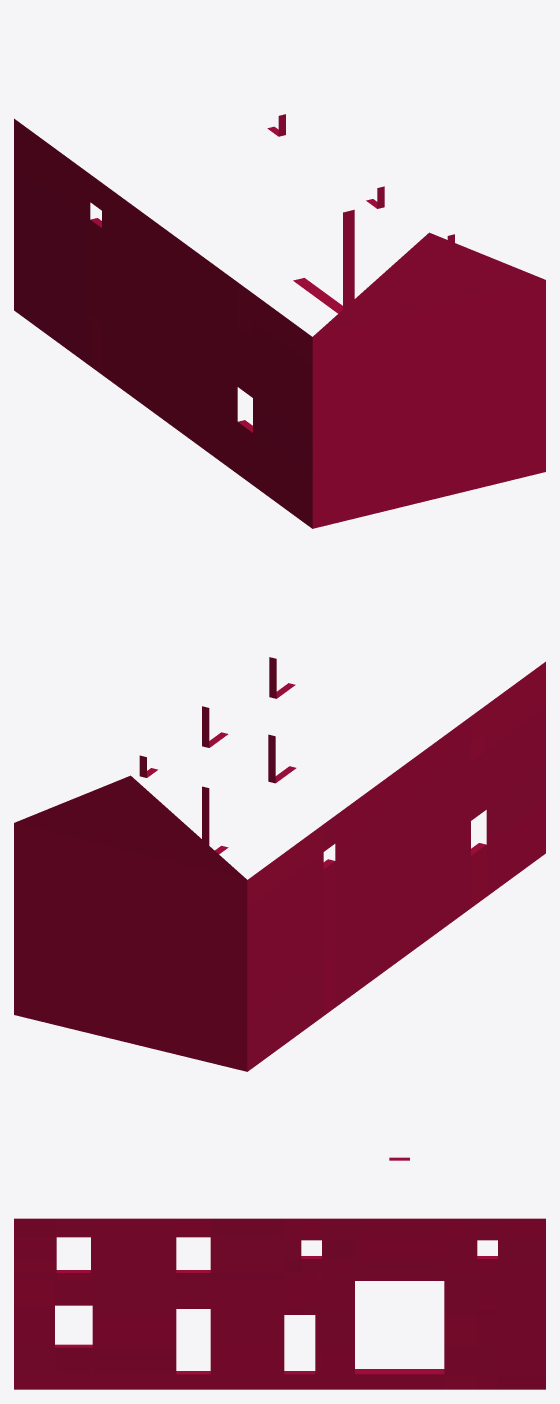
File: SM_Bld_176_Masonry.glb
3 views of the same model, one above another, from view 1: azimuth 30°, elevation 25°; view 2: azimuth 150°, elevation 25°; view 3: azimuth 270°, elevation 25° (orthographic). The views are drawn at different scales.
Parts seen in each view (by area): view 1: SM_Bld_176_Masonry; view 2: SM_Bld_176_Masonry; view 3: SM_Bld_176_Masonry.
Part boxes in pixels (bbox=[...]): SM_Bld_176_Masonry: bbox=[14, 114, 545, 528]; SM_Bld_176_Masonry: bbox=[14, 657, 545, 1071]; SM_Bld_176_Masonry: bbox=[14, 1157, 545, 1389].
Bounding box in the file's own units: 7 × 7.67 × 15.5.
